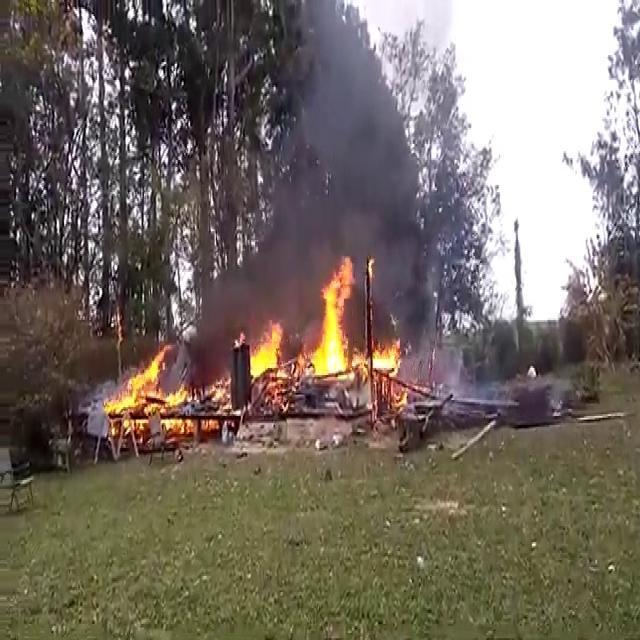Fire: (104, 343, 194, 434), (309, 258, 362, 377), (249, 322, 283, 375), (373, 336, 399, 380)
Smoke: (304, 9, 438, 302), (196, 120, 306, 336), (400, 312, 490, 408)
